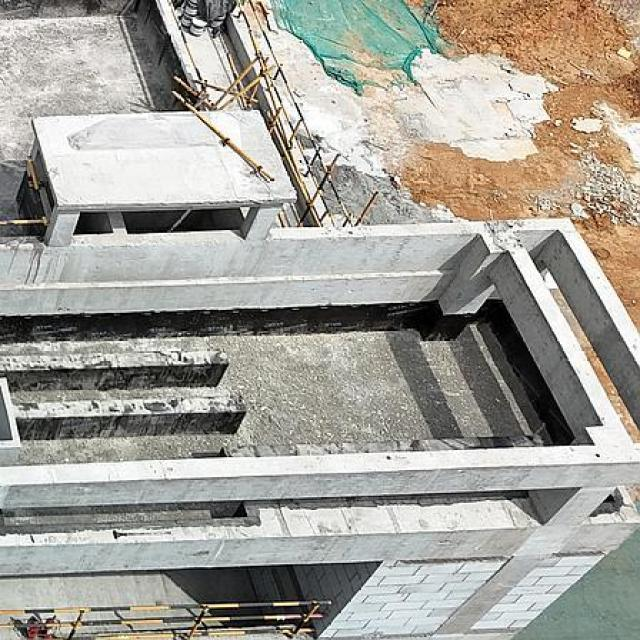Guardrail: (240, 0, 379, 227), (0, 600, 333, 640), (0, 156, 49, 226), (165, 0, 204, 83)
